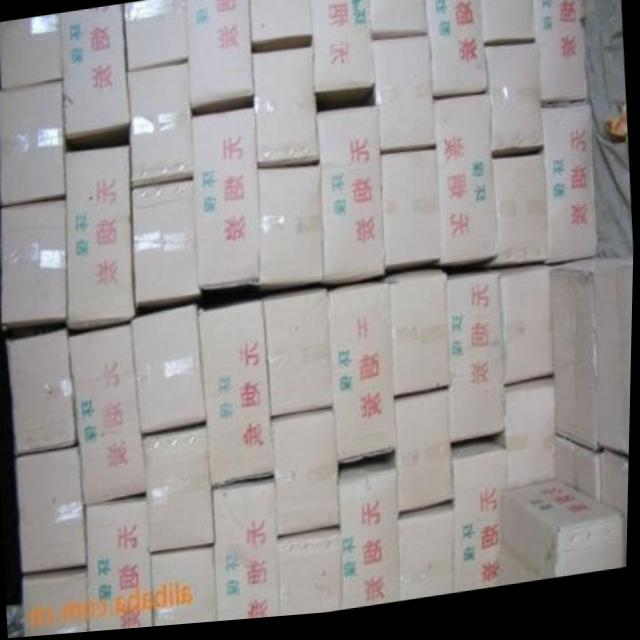box: (553, 267, 627, 464), (199, 304, 276, 488), (70, 325, 147, 507), (66, 147, 137, 330), (505, 488, 628, 593), (328, 287, 399, 468), (434, 103, 499, 271), (449, 277, 507, 449), (340, 466, 405, 615), (60, 5, 130, 139), (133, 308, 206, 436), (144, 429, 217, 556), (215, 485, 281, 625), (18, 446, 90, 573), (543, 111, 599, 274), (266, 294, 335, 424), (273, 415, 342, 542), (6, 332, 77, 454), (89, 502, 155, 633), (454, 450, 511, 600), (0, 200, 67, 325), (0, 80, 66, 204), (594, 269, 635, 468), (391, 276, 452, 404), (382, 156, 443, 275), (373, 41, 435, 155), (397, 398, 454, 519), (494, 162, 552, 274), (486, 52, 544, 164), (533, 0, 588, 113), (501, 277, 554, 394), (506, 386, 557, 497), (280, 534, 345, 621), (154, 551, 221, 629), (403, 514, 456, 607), (0, 14, 62, 88), (25, 571, 90, 638), (558, 444, 604, 513), (605, 461, 631, 578), (480, 0, 534, 52)
